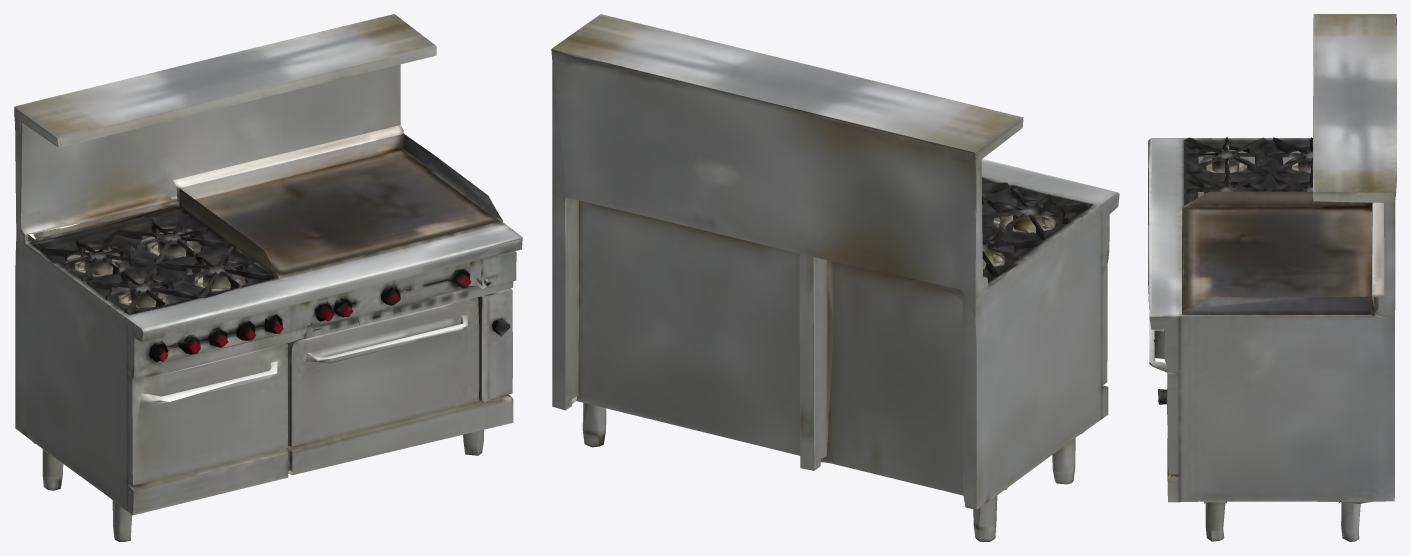
File: skyways-commercial-range.glb
The picture shows the model from 3 angles, left to right: view 1: azimuth 30°, elevation 25°; view 2: azimuth 150°, elevation 25°; view 3: azimuth 270°, elevation 25°; orthographic projection. The views are drawn at different scales.
Visible parts, largest first — view 1: skyways-commercial-range; view 2: skyways-commercial-range; view 3: skyways-commercial-range.
Boxes of the visible parts, x1,y1,x2,y2 form: skyways-commercial-range: (14, 14, 522, 541); skyways-commercial-range: (551, 14, 1119, 541); skyways-commercial-range: (1148, 14, 1396, 541).
Bounding box in the file's own units: 1.52 × 1.4 × 0.8946.
1 material, 1 textured.
